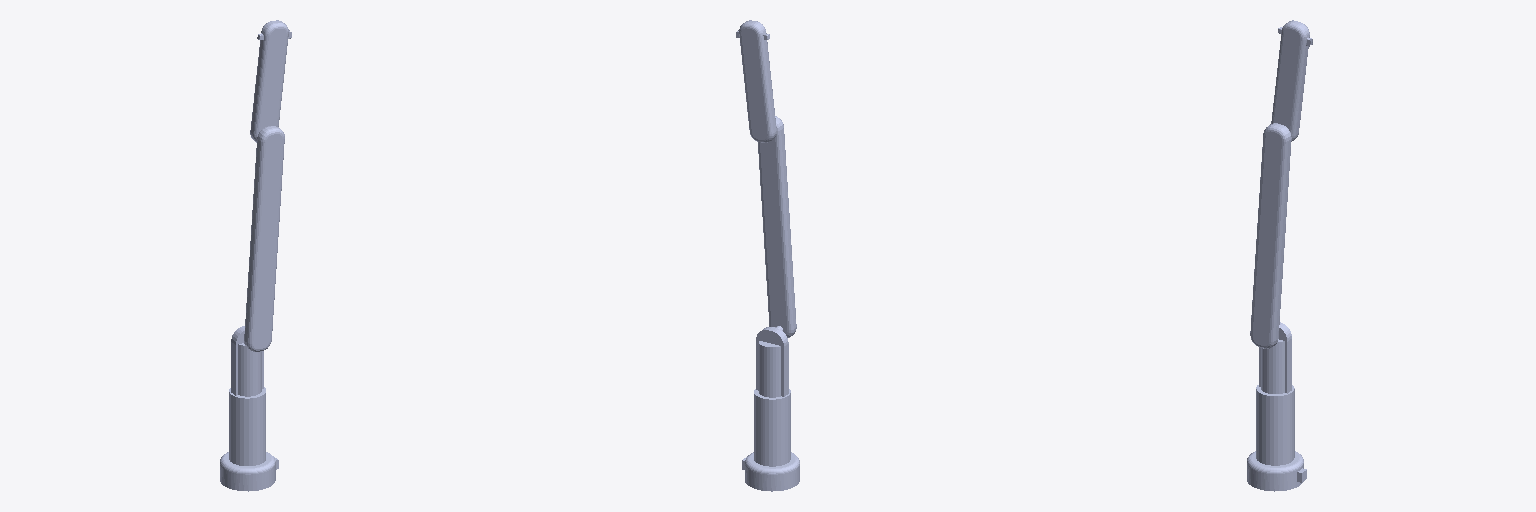
The robot description file, URDF, robot "arm":
<?xml version="1.0" encoding="utf-8"?>
<!-- This URDF was automatically created by SolidWorks to URDF Exporter! Originally created by [author] ([email redacted]) 
     Commit Version: 1.6.0-1-g15f4949  Build Version: 1.6.7594.29634
     For more information, please see http://wiki.ros.org/sw_urdf_exporter -->
<robot
  name="arm">
  <link
    name="base_cylinder">
    <inertial>
      <origin
        xyz="0.00089876 -6.4996E-19 0.021715"
        rpy="0 0 0" />
      <mass
        value="0.36165" />
      <inertia
        ixx="0.00049389"
        ixy="2.4965E-23"
        ixz="1.7043E-22"
        iyy="0.00049373"
        iyz="-2.3302E-20"
        izz="0.0008312" />
    </inertial>
    <visual>
      <origin
        xyz="0 0 0"
        rpy="0 0 0" />
      <geometry>
        <mesh
          filename="package://manipulator_v1/manipulator_description/arm/meshes/base_cylinder.STL" />
      </geometry>
      <material
        name="">
        <color
          rgba="0.79216 0.81961 0.93333 1" />
      </material>
    </visual>
    <collision>
      <origin
        xyz="0 0 0"
        rpy="0 0 0" />
      <geometry>
        <mesh
          filename="package://manipulator_v1/manipulator_description/arm/meshes/base_cylinder.STL" />
      </geometry>
    </collision>
  </link>
  <link
    name="num_base">
    <inertial>
      <origin
        xyz="-7.557E-15 5.6181E-16 0.1"
        rpy="0 0 0" />
      <mass
        value="0.3953" />
      <inertia
        ixx="0.0015909"
        ixy="-6.5339E-07"
        ixz="-2.7188E-22"
        iyy="0.0015463"
        iyz="5.3533E-20"
        izz="0.00050191" />
    </inertial>
    <visual>
      <origin
        xyz="0 0 0"
        rpy="0 0 0" />
      <geometry>
        <mesh
          filename="package://manipulator_v1/manipulator_description/arm/meshes/num_base.STL" />
      </geometry>
      <material
        name="">
        <color
          rgba="0.79216 0.81961 0.93333 1" />
      </material>
    </visual>
    <collision>
      <origin
        xyz="0 0 0"
        rpy="0 0 0" />
      <geometry>
        <mesh
          filename="package://manipulator_v1/manipulator_description/arm/meshes/num_base.STL" />
      </geometry>
    </collision>
  </link>
  <joint
    name="num_base_joint"
    type="continuous">
    <origin
      xyz="0 0 0.01"
      rpy="0 0 0" />
    <parent
      link="base_cylinder" />
    <child
      link="num_base" />
    <axis
      xyz="0 0 1" />
  </joint>
  <link
    name="num_piston">
    <inertial>
      <origin
        xyz="-1.9338E-05 -0.0013215 0.068891"
        rpy="0 0 0" />
      <mass
        value="0.41599" />
      <inertia
        ixx="0.00078298"
        ixy="2.1911E-07"
        ixz="5.3898E-07"
        iyy="0.00079795"
        iyz="3.6832E-05"
        izz="0.00021545" />
    </inertial>
    <visual>
      <origin
        xyz="0 0 0"
        rpy="0 0 0" />
      <geometry>
        <mesh
          filename="package://manipulator_v1/manipulator_description/arm/meshes/num_piston.STL" />
      </geometry>
      <material
        name="">
        <color
          rgba="0.79216 0.81961 0.93333 1" />
      </material>
    </visual>
    <collision>
      <origin
        xyz="0 0 0"
        rpy="0 0 0" />
      <geometry>
        <mesh
          filename="package://manipulator_v1/manipulator_description/arm/meshes/num_piston.STL" />
      </geometry>
    </collision>
  </link>
  <joint
    name="num_piston_joint"
    type="prismatic">
    <origin
      xyz="0 0 0.2"
      rpy="0 0 0" />
    <parent
      link="num_base" />
    <child
      link="num_piston" />
    <axis
      xyz="0 0 1" />
    <limit
      lower="0"
      upper="0.5"
      effort="10"
      velocity="3" />
  </joint>
  <link
    name="mid_link">
    <inertial>
      <origin
        xyz="0.016619 0.015082 0.24196"
        rpy="0 0 0" />
      <mass
        value="0.87256" />
      <inertia
        ixx="0.018828"
        ixy="-7.4446E-07"
        ixz="-0.0012559"
        iyy="0.019081"
        iyz="-4.7149E-05"
        izz="0.00039149" />
    </inertial>
    <visual>
      <origin
        xyz="0 0 0"
        rpy="0 0 0" />
      <geometry>
        <mesh
          filename="package://manipulator_v1/manipulator_description/arm/meshes/mid_link.STL" />
      </geometry>
      <material
        name="">
        <color
          rgba="0.79216 0.81961 0.93333 1" />
      </material>
    </visual>
    <collision>
      <origin
        xyz="0 0 0"
        rpy="0 0 0" />
      <geometry>
        <mesh
          filename="package://manipulator_v1/manipulator_description/arm/meshes/mid_link.STL" />
      </geometry>
    </collision>
  </link>
  <joint
    name="mid_link_joint"
    type="revolute">
    <origin
      xyz="-0.00087791 -0.059994 0.13589"
      rpy="0 0 0" />
    <parent
      link="num_piston" />
    <child
      link="mid_link" />
    <axis
      xyz="-0.014632 -0.99989 0" />
    <limit
      lower="-2.267"
      upper="0.697"
      effort="5"
      velocity="3" />
  </joint>
  <link
    name="end_link">
    <inertial>
      <origin
        xyz="0.013311 -0.015196 0.11712"
        rpy="0 0 0" />
      <mass
        value="0.45387" />
      <inertia
        ixx="0.002689"
        ixy="1.869E-06"
        ixz="-0.00029197"
        iyy="0.0028167"
        iyz="4.2725E-06"
        izz="0.00019068" />
    </inertial>
    <visual>
      <origin
        xyz="0 0 0"
        rpy="0 0 0" />
      <geometry>
        <mesh
          filename="package://manipulator_v1/manipulator_description/arm/meshes/end_link.STL" />
      </geometry>
      <material
        name="">
        <color
          rgba="0.79216 0.81961 0.93333 1" />
      </material>
    </visual>
    <collision>
      <origin
        xyz="0 0 0"
        rpy="0 0 0" />
      <geometry>
        <mesh
          filename="package://manipulator_v1/manipulator_description/arm/meshes/end_link.STL" />
      </geometry>
    </collision>
  </link>
  <joint
    name="end_link_joint"
    type="revolute">
    <origin
      xyz="0.032974 0.059524 0.4737"
      rpy="0 0 0" />
    <parent
      link="mid_link" />
    <child
      link="end_link" />
    <axis
      xyz="0.014632 0.99989 0" />
    <limit
      lower="0"
      upper="6.28"
      effort="2"
      velocity="3" />
  </joint>
  
    
   <transmission name="base_transmission">
      <type>transmission_interface/SimpleTransmission</type>
      <joint name="num_base_joint">
            <hardwareInterface>hardware_interface/PositionJointInterface</hardwareInterface>
      </joint>      
    <actuator name="actuator1">
        <mechanicalReduction>1</mechanicalReduction>
    </actuator>
  </transmission>
  
    <transmission name="prismatic_trnsmission">
      <type>transmission_interface/SimpleTransmission</type>
      <joint name="num_piston_joint">
            <hardwareInterface>hardware_interface/PositionJointInterface</hardwareInterface>
      </joint>      
    <actuator name="actuator2">
        <mechanicalReduction>1</mechanicalReduction>
    </actuator>
  </transmission>
  
    <transmission name="lin_transmission1">
      <type>transmission_interface/SimpleTransmission</type>
      <joint name="mid_link_joint">
            <hardwareInterface>hardware_interface/PositionJointInterface</hardwareInterface>
      </joint>      
    <actuator name="actuator3">
        <mechanicalReduction>1</mechanicalReduction>
    </actuator>
  </transmission>
  
    <transmission name="lin_transmission2">
      <type>transmission_interface/SimpleTransmission</type>
      <joint name="end_link_joint">
            <hardwareInterface>hardware_interface/PositionJointInterface</hardwareInterface>
      </joint>      
    <actuator name="actuator4">
        <mechanicalReduction>1</mechanicalReduction>
    </actuator>
  </transmission>
  
  <!-- ros_controll_plugin -->
  <gazebo>
      <plugin name="gazebo_ros_control" filename="libgazebo_ros_control.so">
          <robotNamespace>/arm</robotNamespace> 
          <robotSimType>gazebo_ros_control/DefaultRobotHWSim</robotSimType> 
      </plugin>
  </gazebo>
  
  
</robot>

--- Facts derived from the render (not from the file) ---
3 views of the same robot in one strip: view 1: azimuth 30°, elevation 25°; view 2: azimuth 150°, elevation 25°; view 3: azimuth 330°, elevation 25° (orthographic).
Model arm with 5 links and 4 joints (2 revolute, 1 continuous, 1 prismatic), rooted at base_cylinder, posed all joints at 0.
Visible links, largest first — view 1: mid_link, end_link, num_base, num_piston, base_cylinder; view 2: mid_link, end_link, num_base, num_piston, base_cylinder; view 3: mid_link, end_link, num_base, num_piston, base_cylinder.
Link boxes in pixels (bbox=[...]): mid_link: bbox=[244, 126, 284, 351]; end_link: bbox=[250, 20, 291, 142]; num_base: bbox=[229, 387, 265, 465]; num_piston: bbox=[231, 326, 264, 396]; base_cylinder: bbox=[220, 452, 278, 491]; mid_link: bbox=[756, 116, 796, 337]; end_link: bbox=[736, 20, 776, 142]; num_base: bbox=[754, 389, 790, 466]; num_piston: bbox=[756, 326, 788, 397]; base_cylinder: bbox=[742, 452, 799, 491]; mid_link: bbox=[1250, 123, 1291, 348]; end_link: bbox=[1271, 20, 1312, 141]; num_base: bbox=[1256, 385, 1294, 465]; num_piston: bbox=[1257, 322, 1291, 393]; base_cylinder: bbox=[1247, 451, 1306, 491].
Size in the robot's own frame: 0.1579 by 0.1208 by 1.07 metres.
Meshes: 5 distinct files referenced, 5 mesh visuals loaded (5 binary STL).